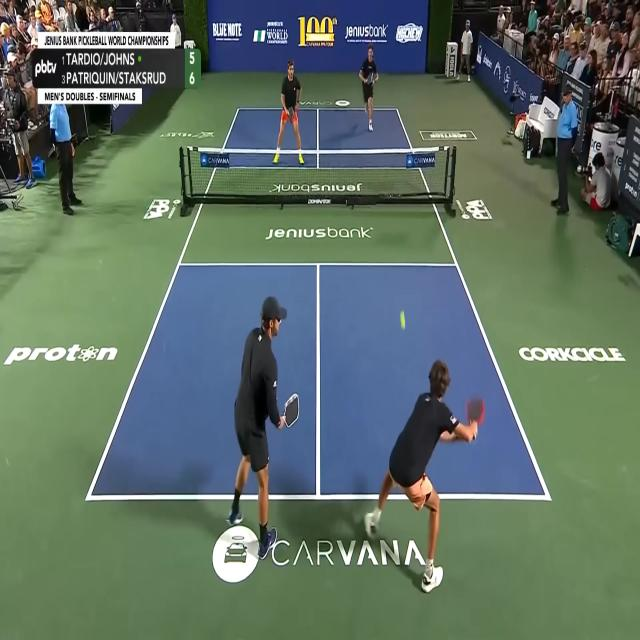ball: (400, 310, 405, 331)
